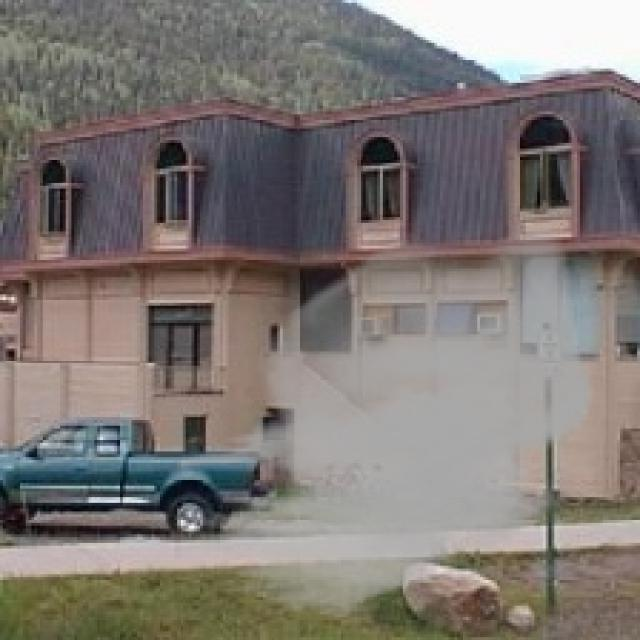smoke: (175, 228, 594, 623)
